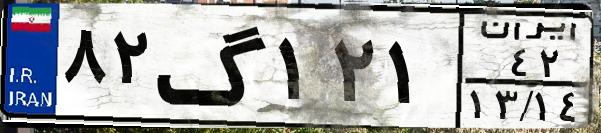1: (270, 28, 330, 110), (385, 28, 445, 110), (470, 70, 495, 125), (535, 70, 560, 125)
2: (330, 28, 385, 110), (110, 28, 156, 98), (537, 27, 568, 80)
3: (495, 70, 520, 125)
4: (560, 70, 590, 125), (508, 27, 537, 80)
8: (57, 26, 110, 100)
گ: (156, 12, 270, 120)
